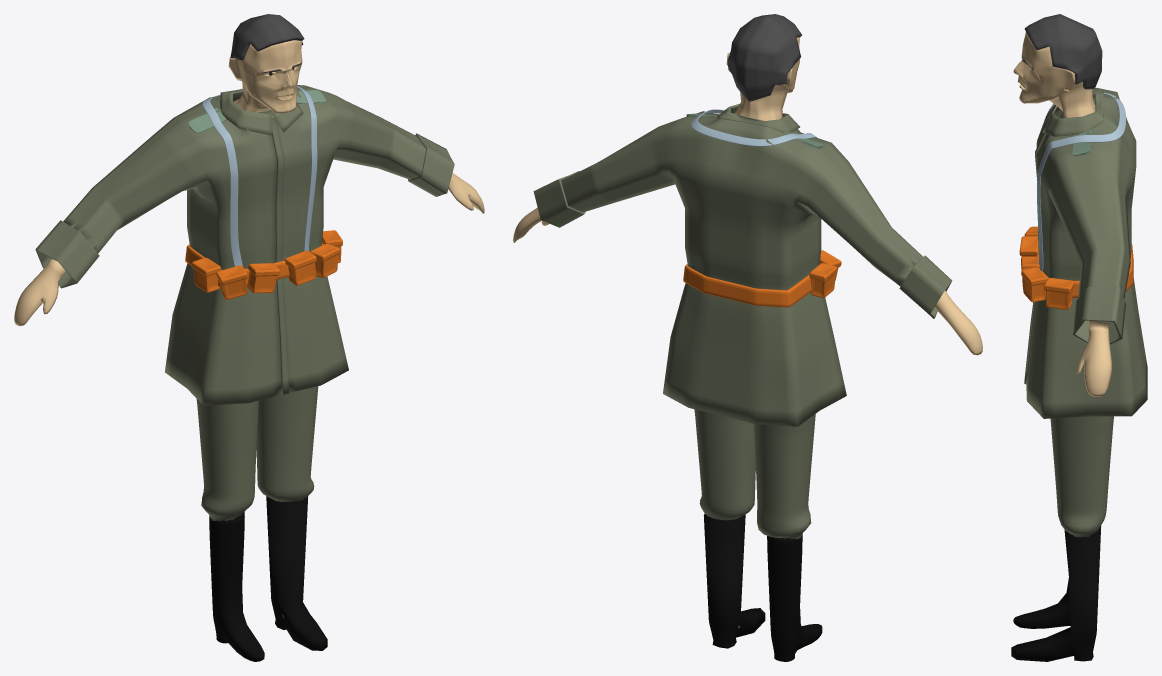
Rendered from soldierWounded_WW1.fbx.
3 renders of one model, left to right at view 1: azimuth 30°, elevation 25°; view 2: azimuth 150°, elevation 25°; view 3: azimuth 270°, elevation 25°, orthographic.
Visible parts, largest first — view 1: mantel, basicHuman, BOOTSright.001, BOOTSright, Head, hOSENTRÄGERww!, HAIR, Cube, Cube.003, Cube.001, Cube.002, Cube.004 (+1 smaller); view 2: mantel, basicHuman, BOOTSright.001, HAIR, BOOTSright, mantel.001, Head, hOSENTRÄGERww!, Cube.002; view 3: mantel, basicHuman, BOOTSright.001, Head, HAIR, hOSENTRÄGERww!, BOOTSright, Cube.005, Cube.004, Cube, mantel.001, Abzeichen (+1 smaller).
Boxes of the visible parts, x1,y1,x2,y2 form: mantel: [35, 85, 454, 405]; basicHuman: [14, 173, 484, 617]; BOOTSright.001: [266, 496, 327, 650]; BOOTSright: [209, 511, 264, 661]; Head: [228, 40, 302, 114]; hOSENTRÄGERww!: [202, 86, 317, 266]; HAIR: [230, 14, 304, 60]; Cube: [247, 263, 279, 293]; Cube.003: [284, 250, 316, 285]; Cube.001: [216, 265, 247, 299]; Cube.002: [191, 257, 221, 292]; Cube.004: [310, 243, 340, 277]; mantel: [533, 103, 952, 426]; basicHuman: [513, 207, 982, 628]; BOOTSright.001: [703, 513, 765, 648]; HAIR: [728, 14, 801, 101]; BOOTSright: [767, 534, 822, 661]; mantel.001: [683, 264, 811, 307]; Head: [726, 37, 799, 120]; hOSENTRÄGERww!: [691, 109, 816, 146]; Cube.002: [809, 263, 837, 298]; mantel: [1024, 88, 1147, 418]; basicHuman: [1050, 98, 1113, 537]; BOOTSright.001: [1011, 526, 1101, 661]; Head: [1013, 32, 1095, 117]; HAIR: [1024, 14, 1102, 89]; hOSENTRÄGERww!: [1037, 92, 1125, 271]; BOOTSright: [1013, 578, 1070, 628]; Cube.005: [1044, 278, 1074, 309]; Cube.004: [1021, 267, 1047, 302]; Cube: [1019, 236, 1038, 256]; mantel.001: [1036, 244, 1133, 297]; Abzeichen: [1072, 130, 1092, 155].
Size of the model in its own units: 158 by 203 by 39.95.
